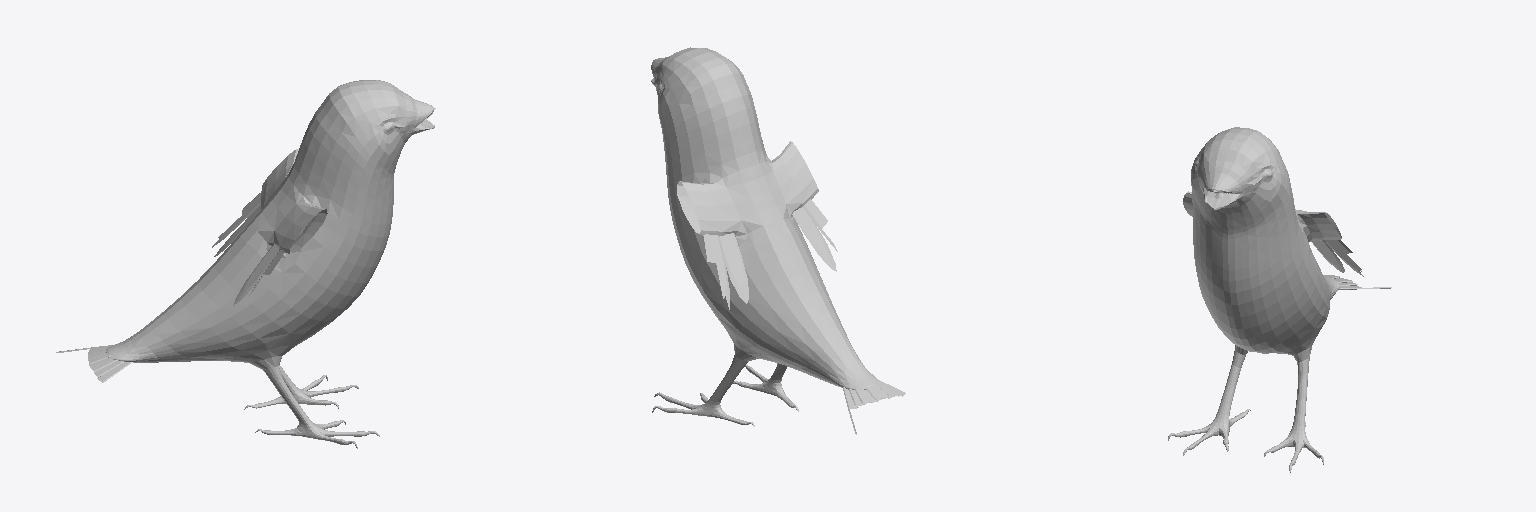
File: pajaro1body.obj
3 views of the same model, side by side, from view 1: azimuth 30°, elevation 25°; view 2: azimuth 150°, elevation 25°; view 3: azimuth 270°, elevation 25° (orthographic).
Parts seen in each view (by area): view 1: Cube.001_Cube.002; view 2: Cube.001_Cube.002; view 3: Cube.001_Cube.002.
Part boxes in pixels (x1,y1,x2,y2): Cube.001_Cube.002: (56,80,435,448); Cube.001_Cube.002: (651,47,905,434); Cube.001_Cube.002: (1168,127,1391,472).
Bounding box in the file's own units: 1.91 × 2.06 × 1.27.